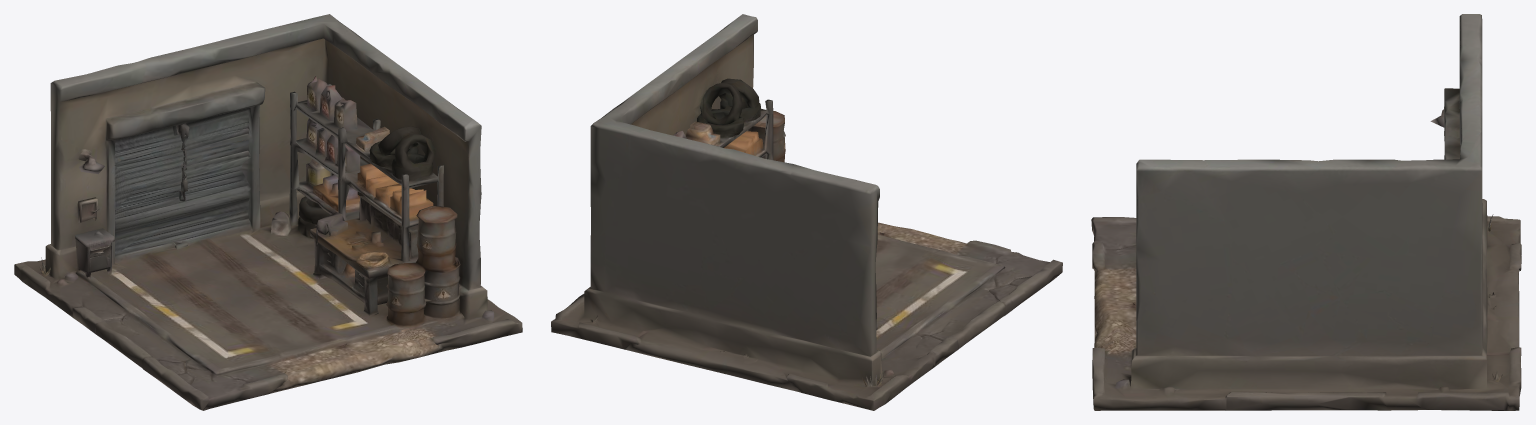
Rendered from garage_room.glb.
3 views of the same model, side by side, from view 1: azimuth 30°, elevation 25°; view 2: azimuth 150°, elevation 25°; view 3: azimuth 270°, elevation 25° (orthographic). The views are drawn at different scales.
Visible parts, largest first — view 1: tripo_node_6cebd749-9119-4c43-a1c6-6ada491c8b76; view 2: tripo_node_6cebd749-9119-4c43-a1c6-6ada491c8b76; view 3: tripo_node_6cebd749-9119-4c43-a1c6-6ada491c8b76.
Part boxes in pixels (x1=…): tripo_node_6cebd749-9119-4c43-a1c6-6ada491c8b76: x1=14, y1=14, x2=522, y2=410; tripo_node_6cebd749-9119-4c43-a1c6-6ada491c8b76: x1=551, y1=14, x2=1062, y2=410; tripo_node_6cebd749-9119-4c43-a1c6-6ada491c8b76: x1=1091, y1=14, x2=1521, y2=410.
Size of the model in its own units: 1 by 0.5902 by 0.9999.
Materials: 1 (1 with a texture image).
